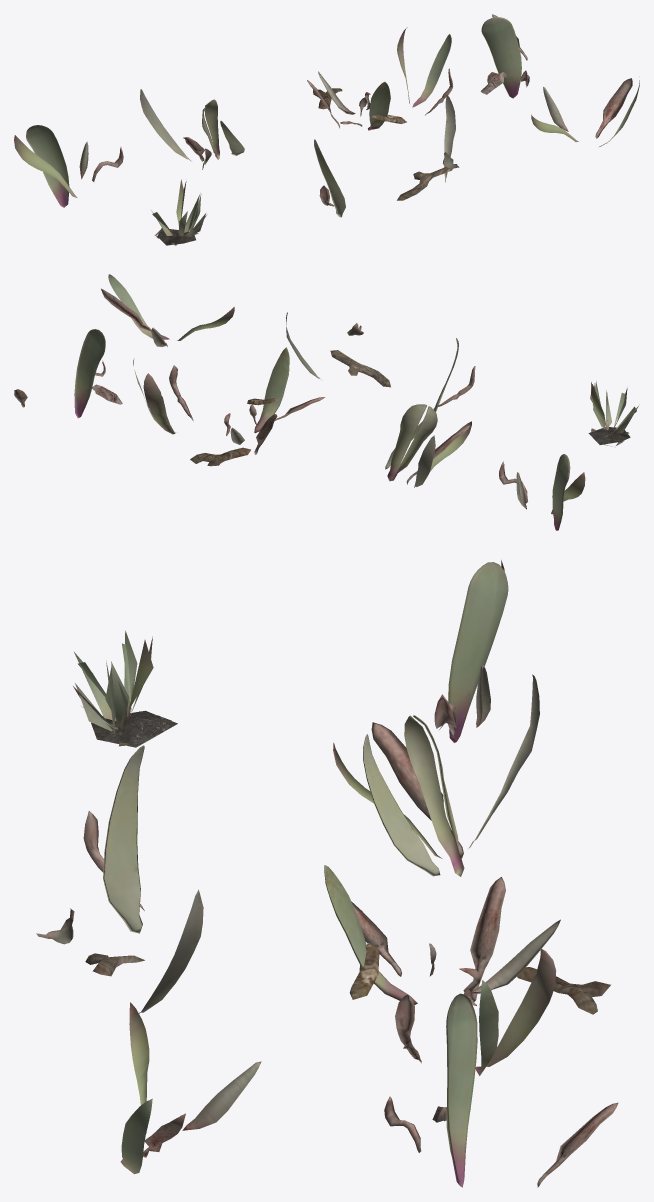
File: cheiridopsis_succulent.glb
3 views of the same model, one above another, from view 1: azimuth 30°, elevation 25°; view 2: azimuth 150°, elevation 25°; view 3: azimuth 270°, elevation 25° (orthographic). The views are drawn at different scales.
Visible parts, largest first — view 1: cheiridopsis_succulent_h_LOD0, cheiridopsis_succulent_f_LOD0, cheiridopsis_succulent_i_LOD0, cheiridopsis_succulent_g_LOD0, cheiridopsis_succulent_e_LOD0, cheiridopsis_succulent_a_LOD0, cheiridopsis_succulent_d_LOD0, cheiridopsis_succulent_c_LOD0; view 2: cheiridopsis_succulent_h_LOD0, cheiridopsis_succulent_g_LOD0, cheiridopsis_succulent_i_LOD0, cheiridopsis_succulent_f_LOD0, cheiridopsis_succulent_e_LOD0, cheiridopsis_succulent_a_LOD0, cheiridopsis_succulent_d_LOD0, cheiridopsis_succulent_c_LOD0; view 3: cheiridopsis_succulent_h_LOD0, cheiridopsis_succulent_g_LOD0, cheiridopsis_succulent_f_LOD0, cheiridopsis_succulent_i_LOD0, cheiridopsis_succulent_c_LOD0, cheiridopsis_succulent_a_LOD0, cheiridopsis_succulent_e_LOD0, cheiridopsis_succulent_d_LOD0.
Boxes of the visible parts, x1=… form: cheiridopsis_succulent_h_LOD0: x1=307, y1=27, x2=453, y2=130; cheiridopsis_succulent_f_LOD0: x1=14, y1=125, x2=123, y2=207; cheiridopsis_succulent_i_LOD0: x1=480, y1=14, x2=529, y2=98; cheiridopsis_succulent_g_LOD0: x1=140, y1=89, x2=244, y2=169; cheiridopsis_succulent_e_LOD0: x1=531, y1=78, x2=639, y2=146; cheiridopsis_succulent_a_LOD0: x1=151, y1=179, x2=207, y2=245; cheiridopsis_succulent_d_LOD0: x1=397, y1=95, x2=459, y2=200; cheiridopsis_succulent_c_LOD0: x1=314, y1=139, x2=345, y2=217; cheiridopsis_succulent_h_LOD0: x1=133, y1=347, x2=324, y2=466; cheiridopsis_succulent_g_LOD0: x1=385, y1=404, x2=471, y2=487; cheiridopsis_succulent_i_LOD0: x1=14, y1=329, x2=122, y2=418; cheiridopsis_succulent_f_LOD0: x1=499, y1=454, x2=585, y2=530; cheiridopsis_succulent_e_LOD0: x1=101, y1=274, x2=234, y2=346; cheiridopsis_succulent_a_LOD0: x1=588, y1=381, x2=639, y2=446; cheiridopsis_succulent_d_LOD0: x1=286, y1=312, x2=390, y2=387; cheiridopsis_succulent_c_LOD0: x1=433, y1=338, x2=475, y2=412; cheiridopsis_succulent_h_LOD0: x1=324, y1=865, x2=610, y2=1075; cheiridopsis_succulent_g_LOD0: x1=333, y1=674, x2=539, y2=876; cheiridopsis_succulent_f_LOD0: x1=434, y1=560, x2=508, y2=742; cheiridopsis_succulent_i_LOD0: x1=384, y1=993, x2=618, y2=1187; cheiridopsis_succulent_c_LOD0: x1=83, y1=745, x2=144, y2=933; cheiridopsis_succulent_a_LOD0: x1=73, y1=630, x2=177, y2=747; cheiridopsis_succulent_e_LOD0: x1=120, y1=1002, x2=261, y2=1174; cheiridopsis_succulent_d_LOD0: x1=36, y1=889, x2=203, y2=1013.
Size of the model in its own units: 1.97 by 0.3053 by 0.9246.
1 material, 1 textured.
